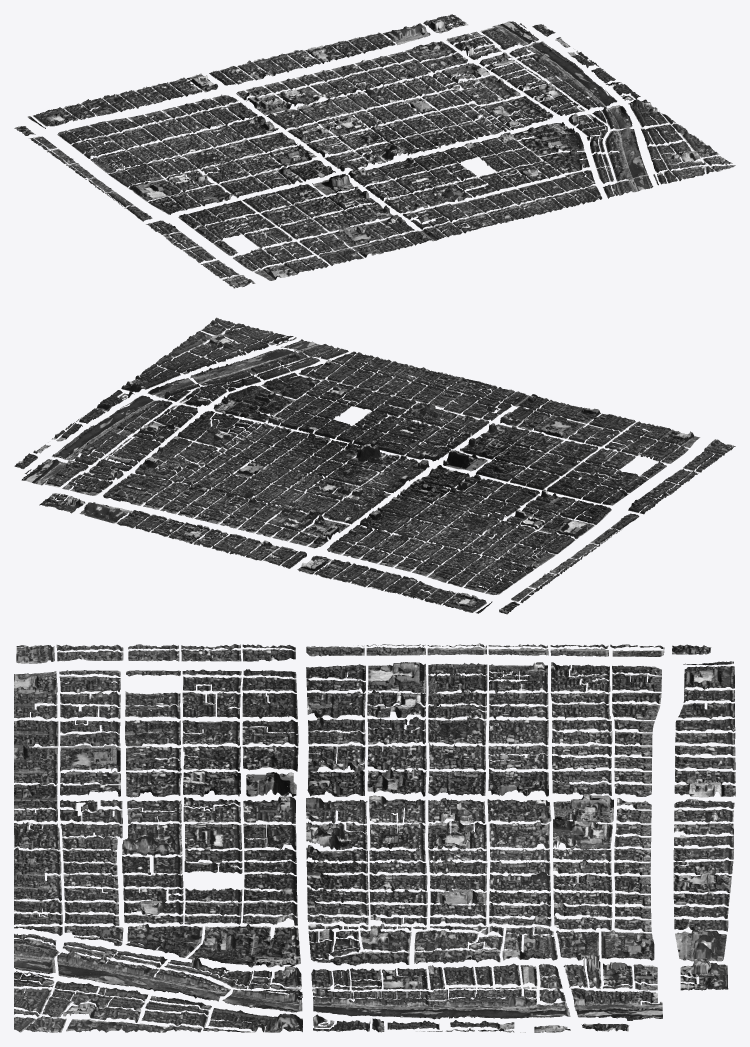
The model's file is 1946建築物モデル.glb.
3 views of the same model, one above another, from view 1: azimuth 30°, elevation 25°; view 2: azimuth 150°, elevation 25°; view 3: azimuth 270°, elevation 25° (orthographic). The views are drawn at different scales.
Visible parts, largest first — view 1: Model; view 2: Model; view 3: Model.
Part boxes in pixels (x1=…): Model: x1=14, y1=14, x2=735, y2=288; Model: x1=14, y1=317, x2=735, y2=614; Model: x1=14, y1=643, x2=735, y2=1032.
Size of the model in its own units: 2000 by 45.37 by 1583.
8 materials, 8 textured.
